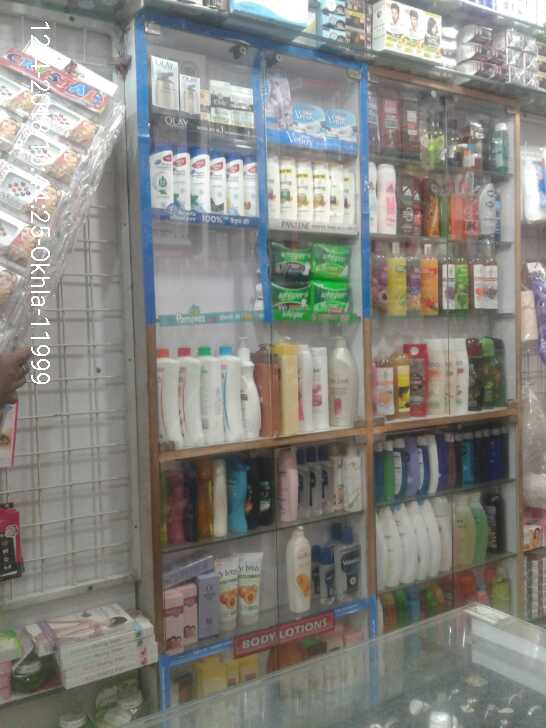venus: (267, 73, 291, 127), (293, 101, 323, 137), (324, 108, 356, 141)
